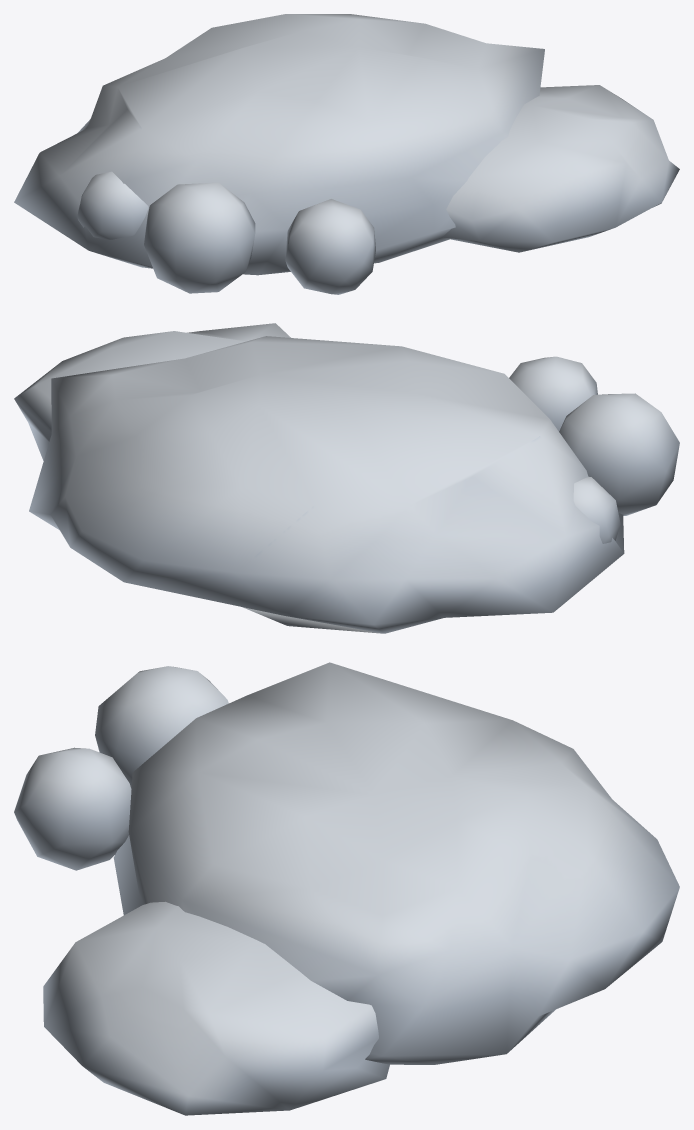
Rendered from snow_pile_b.glb.
3 views of the same model, one above another, from view 1: azimuth 30°, elevation 25°; view 2: azimuth 150°, elevation 25°; view 3: azimuth 270°, elevation 25° (orthographic). The views are drawn at different scales.
Visible parts, largest first — view 1: ball; view 2: ball; view 3: ball.
Boxes of the visible parts, x1,y1,x2,y2 form: ball: (14, 14, 679, 294); ball: (14, 323, 679, 633); ball: (14, 662, 679, 1115).
Size of the model in its own units: 1.34 by 0.3233 by 1.09.
1 material, 1 textured.
